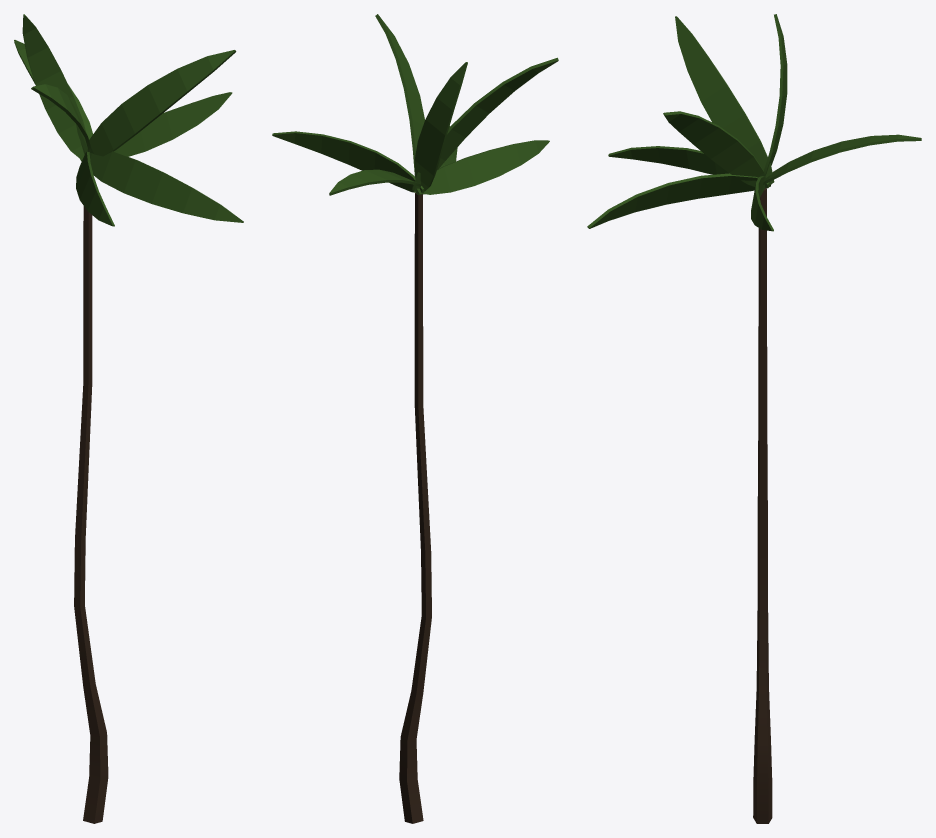
Rendered from SM_tree_palm_small_03.fbx.
3 renders of one model, left to right at view 1: azimuth 30°, elevation 25°; view 2: azimuth 150°, elevation 25°; view 3: azimuth 270°, elevation 25°, orthographic. The views are drawn at different scales.
Visible parts, largest first — view 1: Line004; view 2: Line004; view 3: Line004.
Part boxes in pixels (x1,y1,x2,y2): Line004: (14,14,243,823); Line004: (272,14,558,823); Line004: (587,14,921,823).
Size of the model in its own units: 65.7 by 79.65 by 205.
